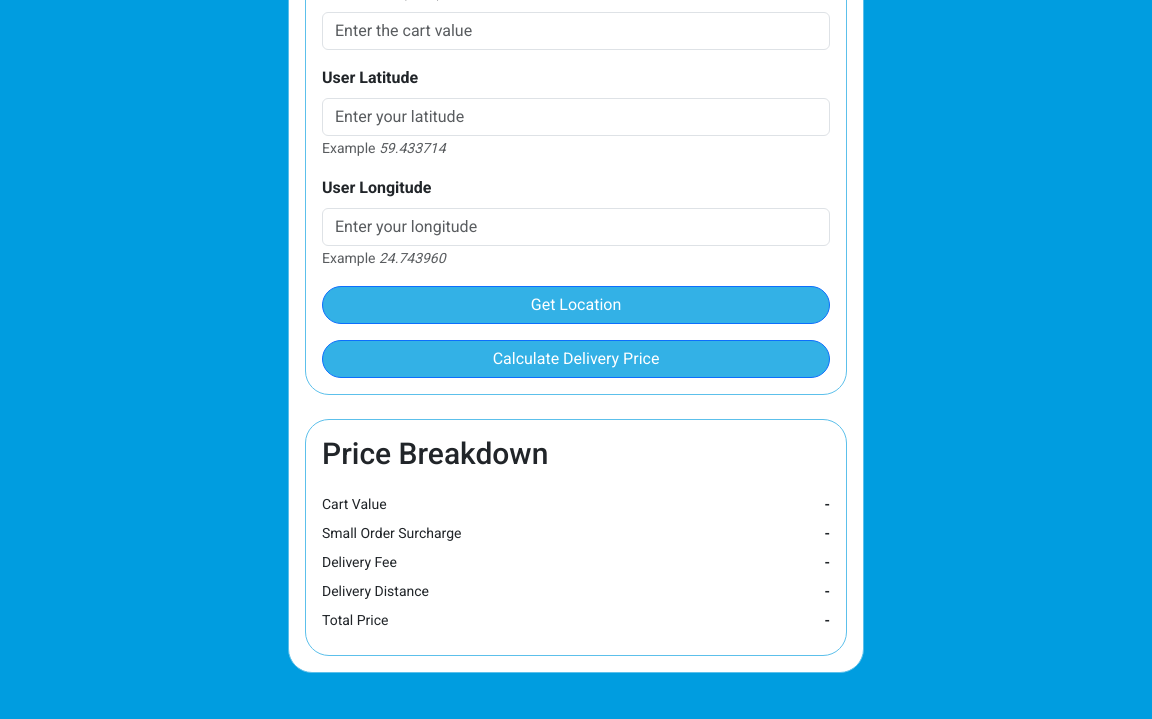
Test case: InputForm › displays an error modal when invalid inputs are submitted
This screenshot has width=1152, height=719.
(page scrolled)
Click the button "Calculate Delivery Price" at (576, 359), box [322,340,830,378]
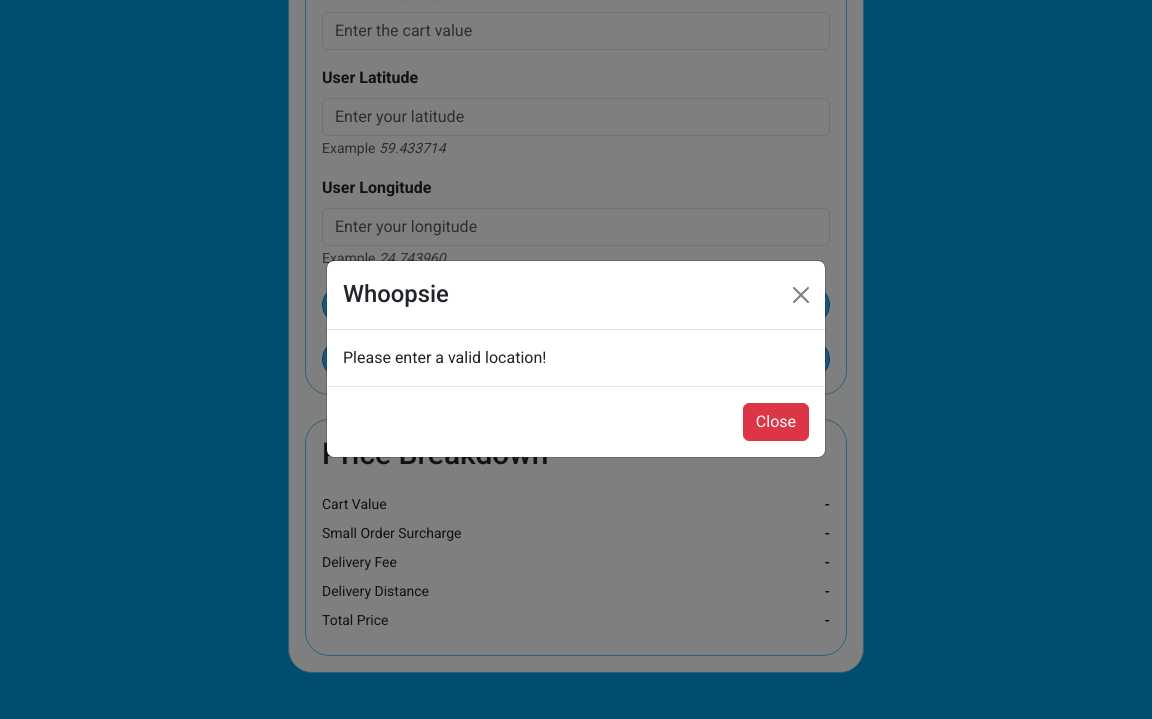
Expected: the text "Whoopsie" is shown, [343,277,449,313]
Expected: the text "Please enter a valid location!" is shown, [343,348,546,367]
